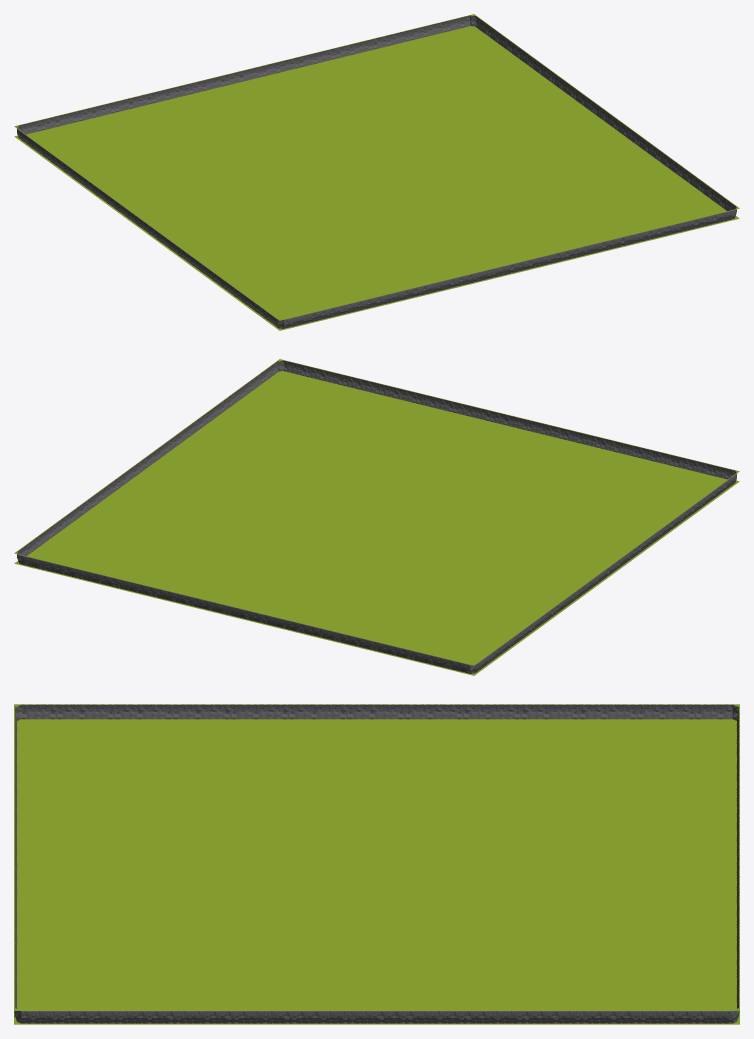
File: Gungame_Models.fbx
The picture shows the model from 3 angles, top to bottom: view 1: azimuth 30°, elevation 25°; view 2: azimuth 150°, elevation 25°; view 3: azimuth 270°, elevation 25°; orthographic projection. The views are drawn at different scales.
Visible parts, largest first — view 1: Terrain.001; view 2: Terrain.001; view 3: Terrain.001.
Part boxes in pixels (x1,y1,x2,y2): Terrain.001: (14,14,739,330); Terrain.001: (14,359,739,675); Terrain.001: (14,704,739,1024).
Bounding box in the file's own units: 200 × 4.25 × 200.
